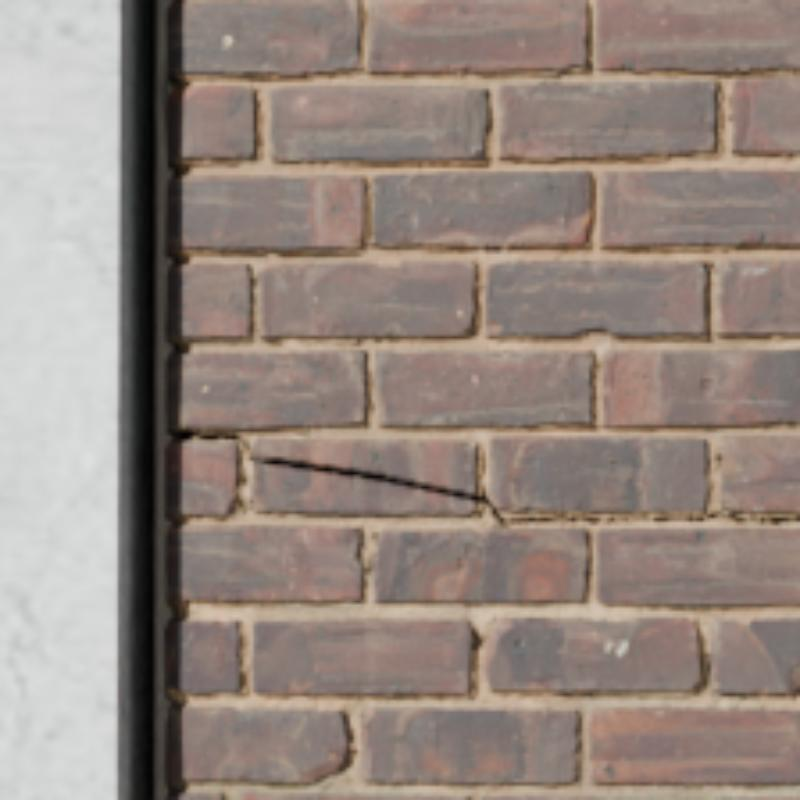pothole: (182, 432, 796, 524)
